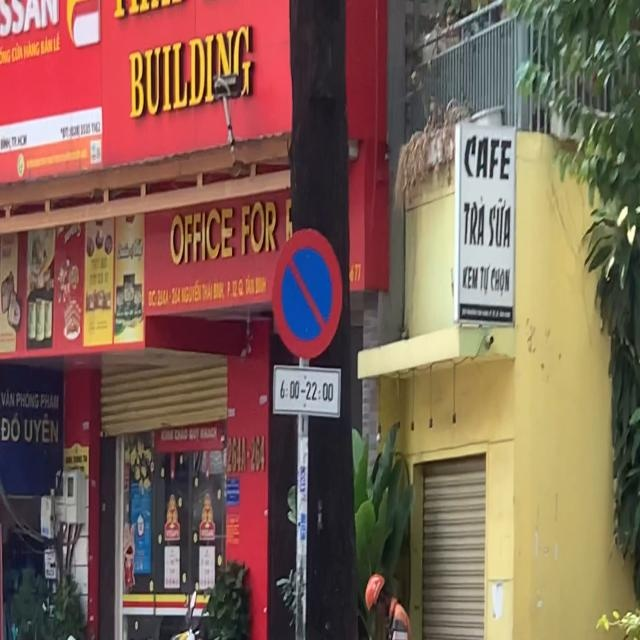bien_cam: (272, 229, 344, 359)
